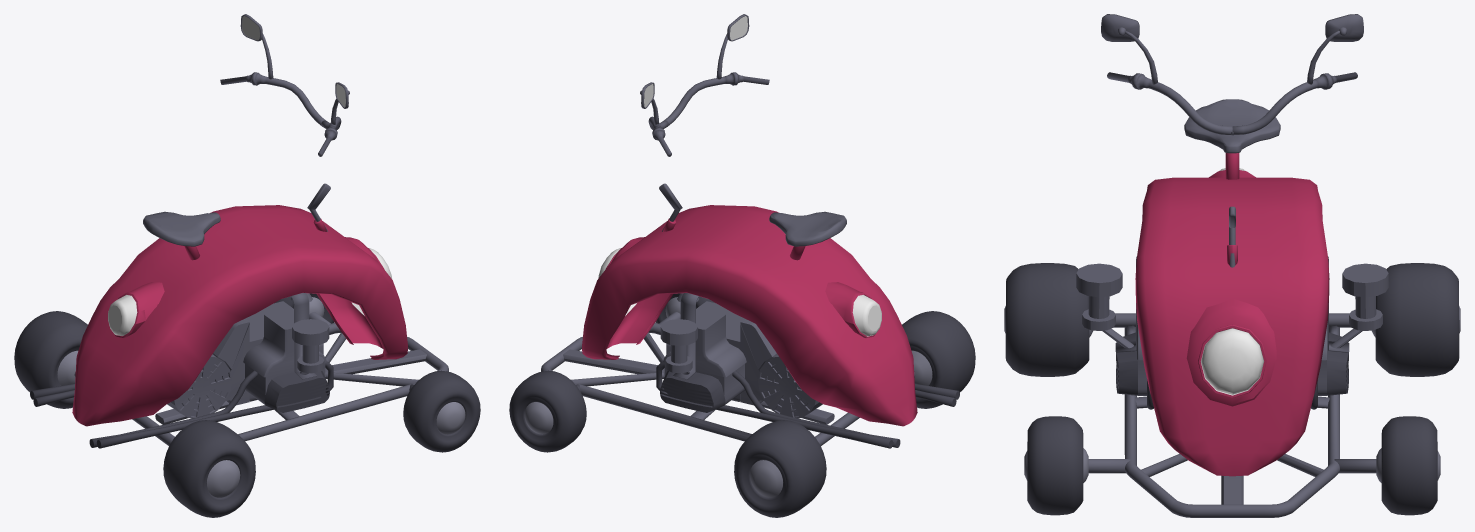
The model's file is kartmega (1).fbx.
3 views of the same model, side by side, from view 1: azimuth 30°, elevation 25°; view 2: azimuth 150°, elevation 25°; view 3: azimuth 270°, elevation 25° (orthographic). The views are drawn at different scales.
Parts seen in each view (by area): view 1: Ferro, Roda Traseira Direita, Roda Frontal Direita, Roda Traseira Esquerda, Retrovisor.001; view 2: Ferro, Roda Traseira Esquerda, Roda Frontal Esquerda, Roda Traseira Direita, Retrovisor.001; view 3: Ferro, Roda Traseira Direita, Roda Traseira Esquerda, Roda Frontal Direita, Roda Frontal Esquerda, Retrovisor.001.
Part boxes in pixels (x1,y1,x2,y2): Ferro: (30,205,448,448); Roda Traseira Direita: (163,420,255,517); Roda Frontal Direita: (403,370,480,452); Roda Traseira Esquerda: (14,311,87,408); Retrovisor.001: (220,14,349,156); Ferro: (541,205,959,448); Roda Traseira Esquerda: (734,420,826,517); Roda Frontal Esquerda: (509,370,586,452); Roda Traseira Direita: (902,311,975,408); Retrovisor.001: (640,14,769,156); Ferro: (1076,99,1388,517); Roda Traseira Direita: (1004,263,1093,376); Roda Traseira Esquerda: (1371,263,1460,376); Roda Frontal Direita: (1024,416,1088,515); Roda Frontal Esquerda: (1376,416,1440,515); Retrovisor.001: (1101,14,1363,135).
Bounding box in the file's own units: 388 × 370 × 337.
